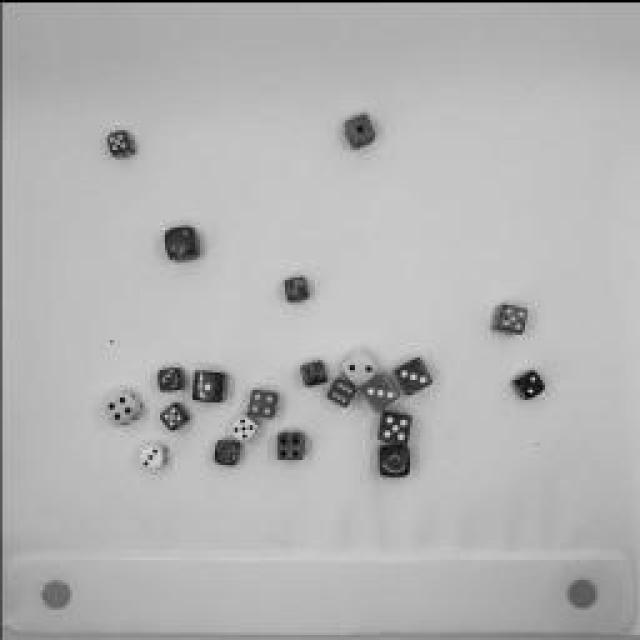dice_1: (375, 438, 415, 478), (189, 365, 229, 403), (342, 110, 376, 150)
dice_2: (335, 345, 380, 390), (161, 221, 201, 261), (510, 366, 545, 399), (280, 271, 312, 304), (210, 435, 245, 465)
dice_3: (391, 352, 434, 398), (358, 368, 400, 412), (135, 439, 170, 469), (155, 364, 185, 391)
dice_4: (102, 385, 146, 425), (245, 385, 280, 420), (275, 429, 307, 461), (296, 356, 329, 386)
dice_5: (488, 298, 532, 338), (373, 405, 415, 445), (224, 410, 264, 445), (156, 398, 194, 432), (104, 128, 138, 158)
dice_6: (325, 372, 360, 408)
